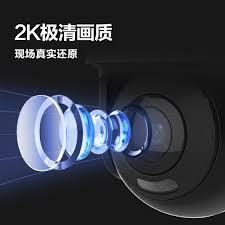maru: (112, 60, 225, 214)
